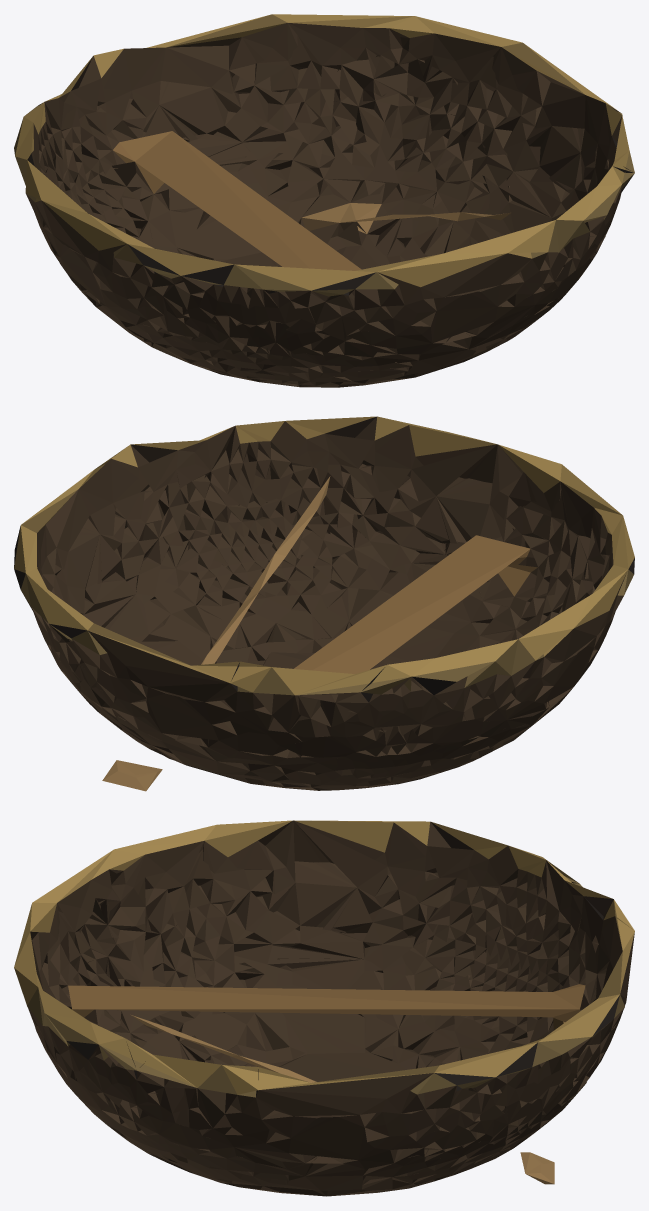
File: thung_chai_flat_edits.glb
3 renders of one model, top to bottom at view 1: azimuth 30°, elevation 25°; view 2: azimuth 150°, elevation 25°; view 3: azimuth 270°, elevation 25°, orthographic.
Visible parts, largest first — view 1: thung_chai_flat_edits; view 2: thung_chai_flat_edits; view 3: thung_chai_flat_edits.
Part boxes in pixels (x1,y1,x2,y2): thung_chai_flat_edits: [14, 14, 634, 387]; thung_chai_flat_edits: [14, 416, 634, 791]; thung_chai_flat_edits: [14, 820, 634, 1196].
Size of the model in its own units: 1.81 by 0.6275 by 1.81.
